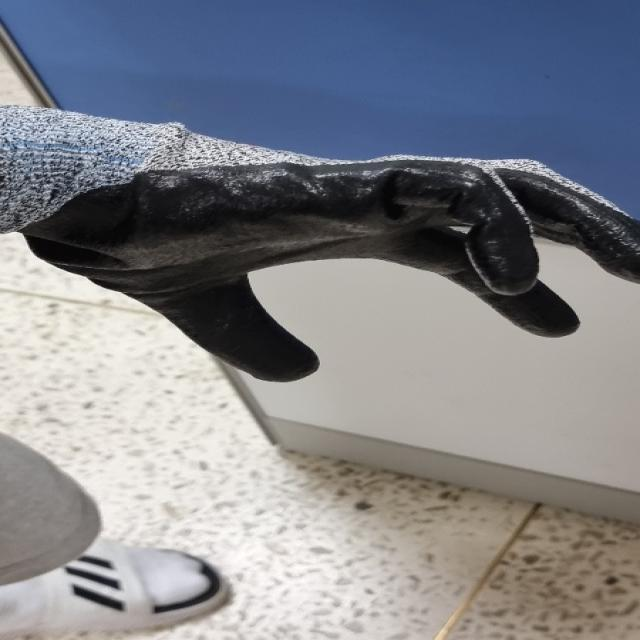Gloves: (6, 98, 640, 383)
